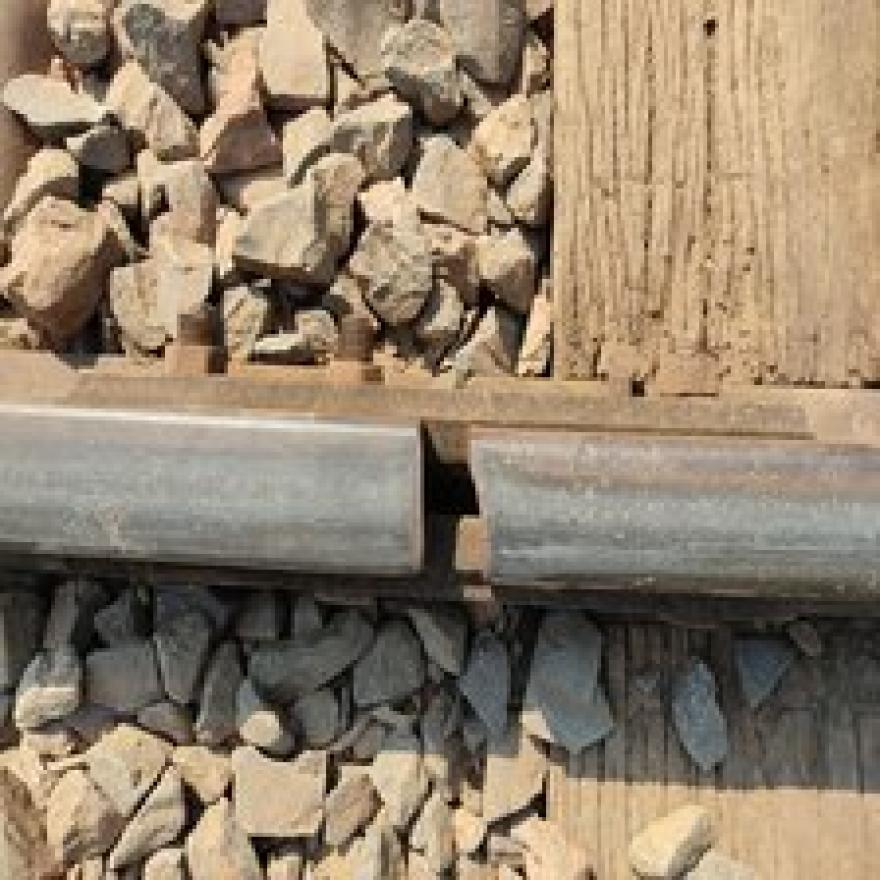railway-gap: (320, 384, 592, 628)
